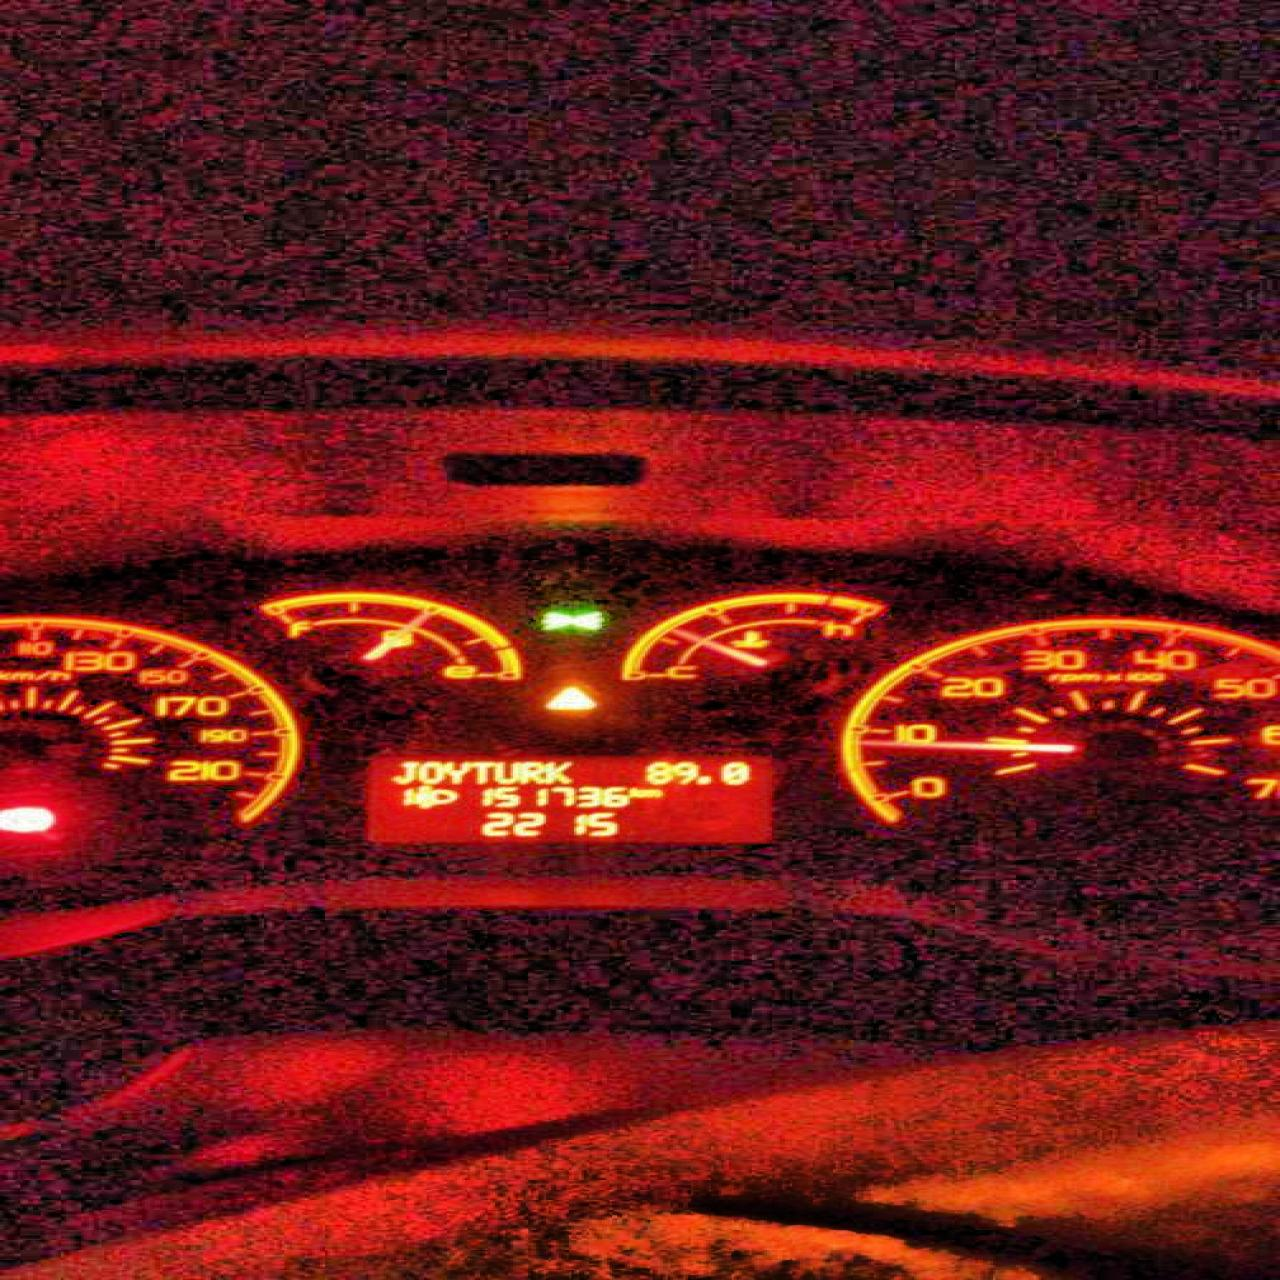-: (693, 774, 714, 787)
0: (716, 760, 749, 785)
1: (572, 811, 584, 837), (533, 784, 546, 808), (399, 787, 411, 809), (478, 785, 490, 806)
2: (513, 810, 544, 836), (483, 810, 511, 836)
3: (573, 783, 599, 808)
5: (584, 810, 617, 836), (490, 784, 518, 808)
6: (599, 785, 627, 806)
7: (549, 784, 574, 806)
8: (642, 760, 670, 784)
9: (670, 760, 699, 785)
X: (544, 758, 577, 783), (386, 758, 414, 783), (416, 758, 442, 783), (442, 758, 468, 783), (492, 760, 518, 784), (518, 760, 544, 784), (468, 760, 492, 784), (640, 787, 660, 797), (627, 784, 640, 797)
odometer: (350, 750, 788, 849)
